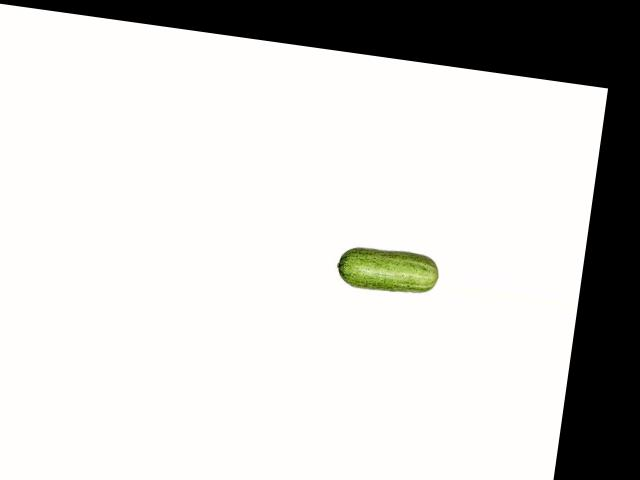cucumber: (334, 243, 440, 297)
